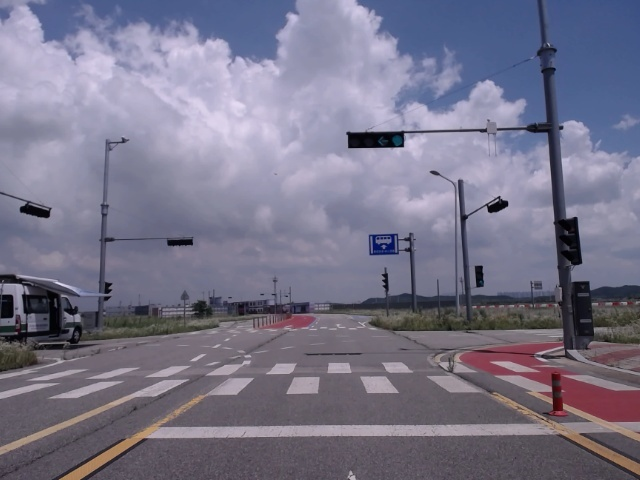all_green_4: (349, 136, 411, 146)
